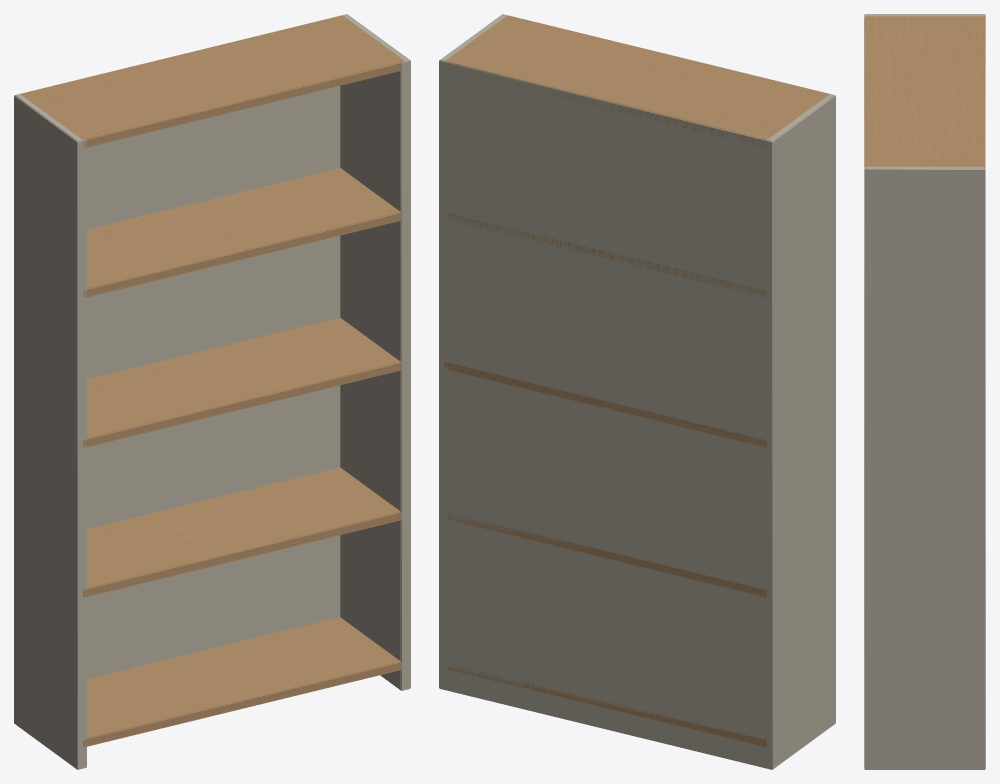
Rendered from scandinavian.bookcase.gltf.
The picture shows the model from 3 angles, left to right: view 1: azimuth 30°, elevation 25°; view 2: azimuth 150°, elevation 25°; view 3: azimuth 270°, elevation 25°; orthographic projection. The views are drawn at different scales.
Visible parts, largest first — view 1: scandinavian.bookcase.upright; view 2: scandinavian.bookcase.upright; view 3: scandinavian.bookcase.upright.
Part boxes in pixels (<box>): scandinavian.bookcase.upright: <box>14,14,410,769</box>; scandinavian.bookcase.upright: <box>439,14,835,769</box>; scandinavian.bookcase.upright: <box>864,14,985,769</box>.
Size of the model in its own units: 1 by 1.8 by 0.33.
Materials: 2 (1 with a texture image).
